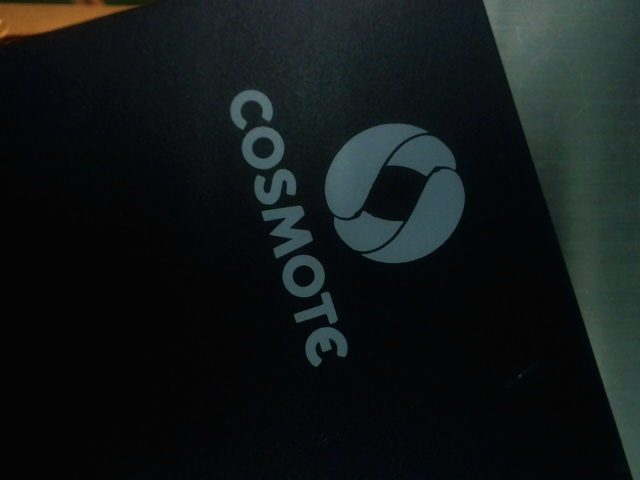AU_COSMOTE: (220, 80, 469, 365)
